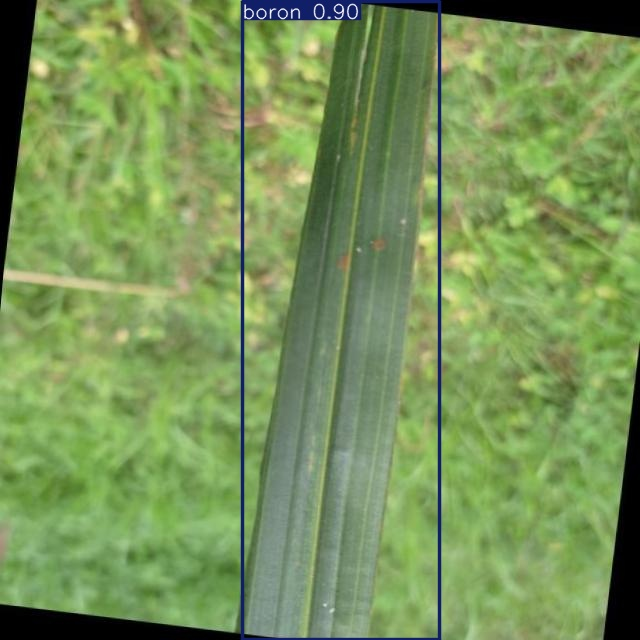nitrogen: (242, 2, 439, 640)
